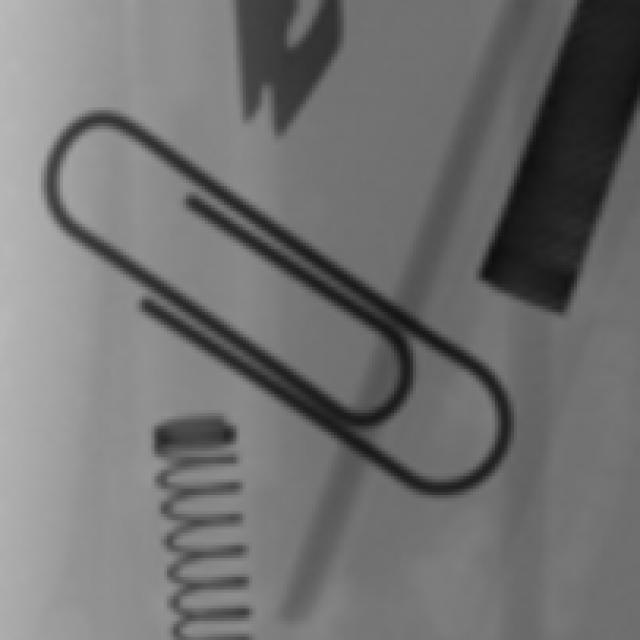GUN: (469, 17, 639, 313), (203, 2, 369, 139)
